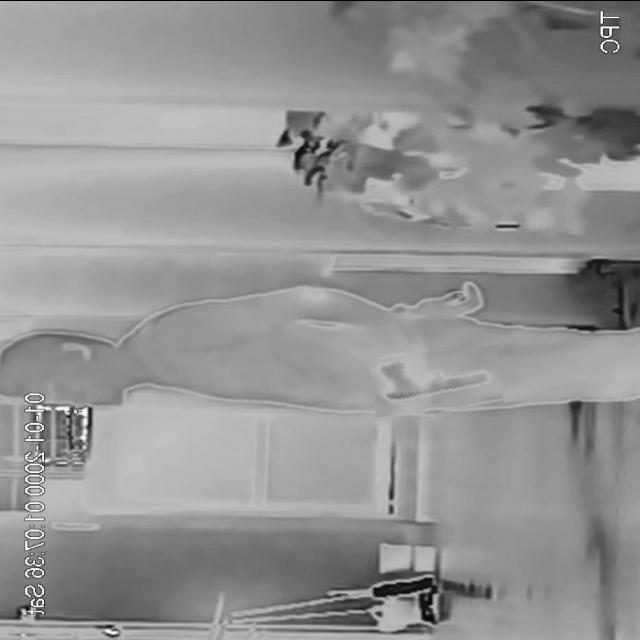Weapon: (370, 347, 502, 414)
